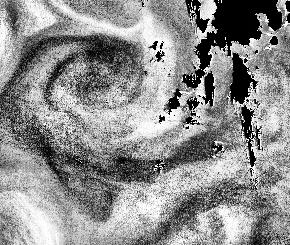AE: (17, 17, 177, 155)
